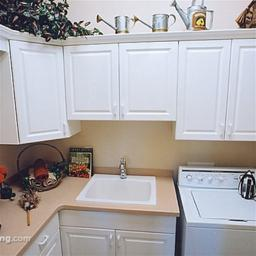Electrodomestico: (184, 175, 255, 253)
Lavaplatos: (73, 169, 161, 210)
